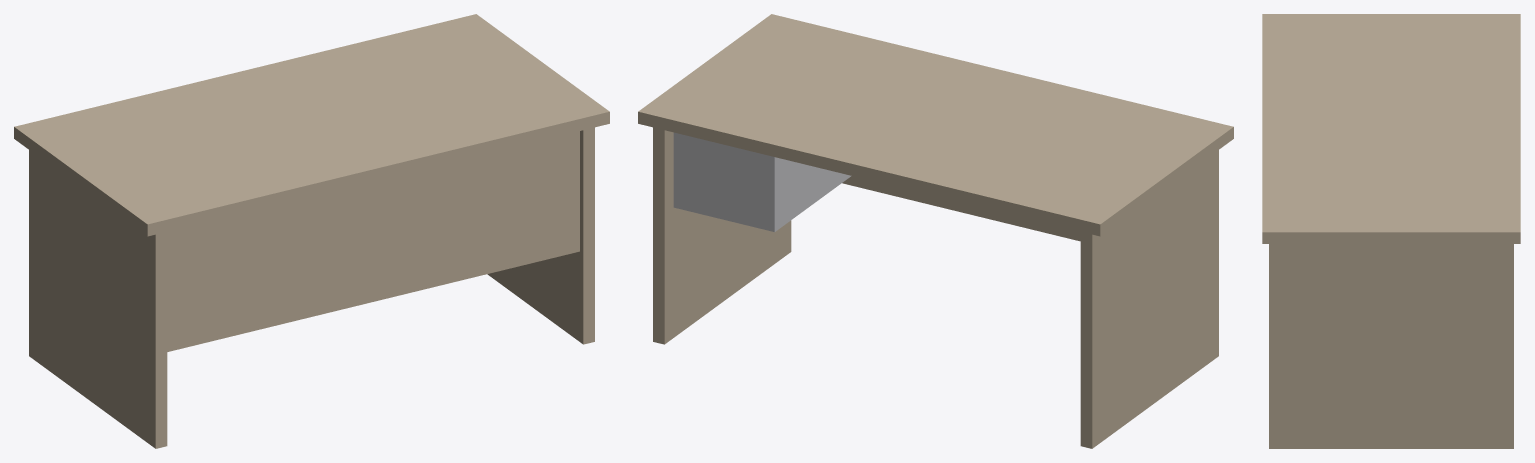
Rendered from desk.gltf.
The picture shows the model from 3 angles, left to right: view 1: azimuth 30°, elevation 25°; view 2: azimuth 150°, elevation 25°; view 3: azimuth 270°, elevation 25°; orthographic projection. The views are drawn at different scales.
Visible parts, largest first — view 1: desk; view 2: desk; view 3: desk.
Part boxes in pixels (x1=…): desk: x1=14, y1=14, x2=609, y2=448; desk: x1=638, y1=14, x2=1233, y2=448; desk: x1=1262, y1=14, x2=1520, y2=448.
Size of the model in its own units: 1.6 by 0.76 by 0.8.
